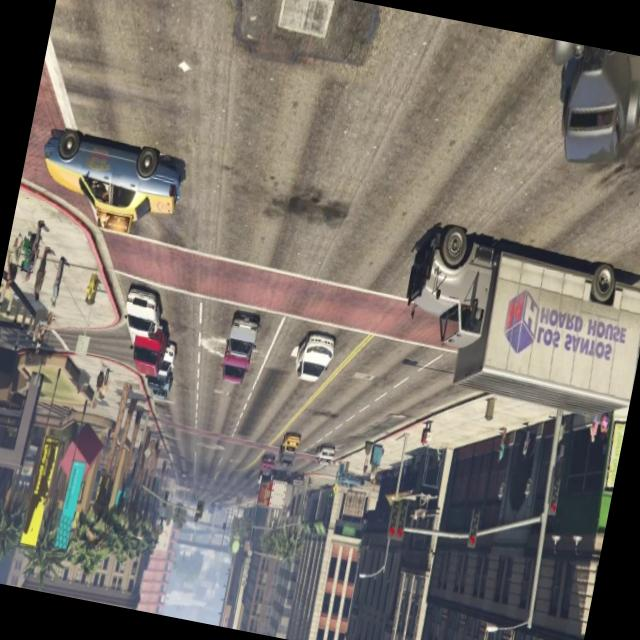Red-Signal: (376, 479, 420, 560), (538, 458, 574, 530), (457, 494, 490, 562)
